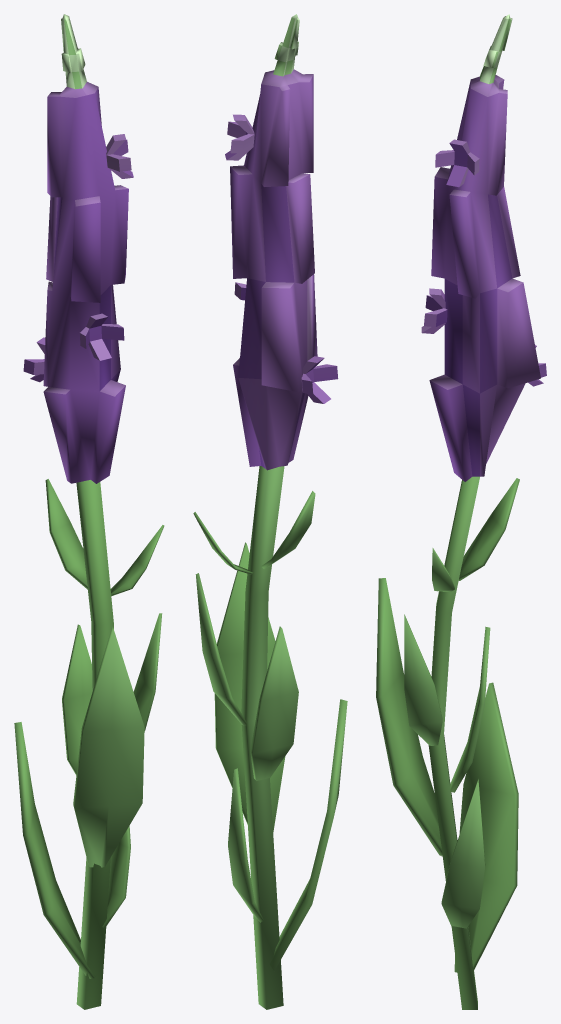
Rendered from Purple_Loosestrife_4_26.fbx.
3 renders of one model, left to right at view 1: azimuth 30°, elevation 25°; view 2: azimuth 210°, elevation 25°; view 3: azimuth 270°, elevation 25°, orthographic. The views are drawn at different scales.
Parts seen in each view (by area): view 1: Plane.001; view 2: Plane.001; view 3: Plane.001.
Part boxes in pixels (box(x1,y1,x2,y2)): Plane.001: box(14, 14, 164, 1009); Plane.001: box(193, 14, 347, 1009); Plane.001: box(376, 14, 546, 1009).
Size of the model in its own units: 14.7 by 111 by 17.32.
